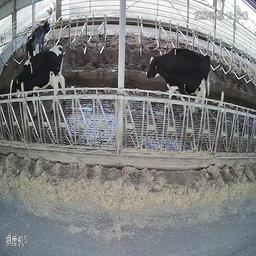cow: (131, 46, 201, 114), (2, 49, 54, 124), (23, 18, 52, 62)
